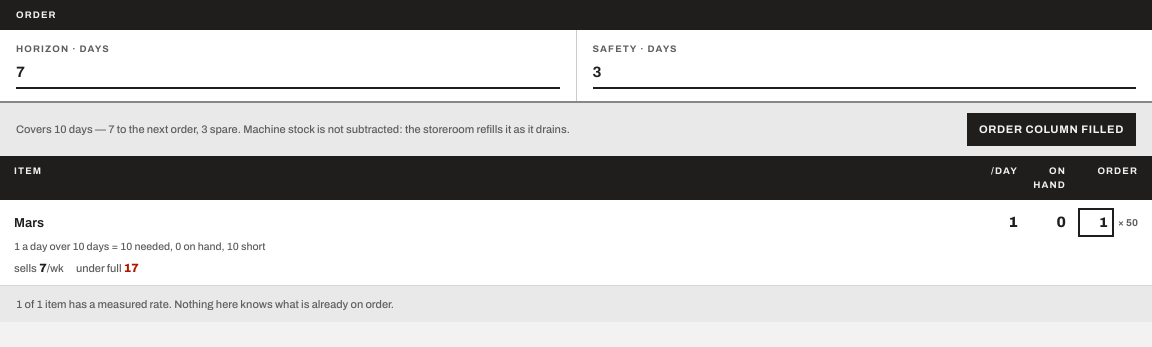
it: OrderSection — editing the order figure › replaces the suggestion with the operator figure, keeping the original in view
Replace the text in the number field named "order boxes for mars" with "4" at (1096, 222), box 1078,208 -> 1114,237
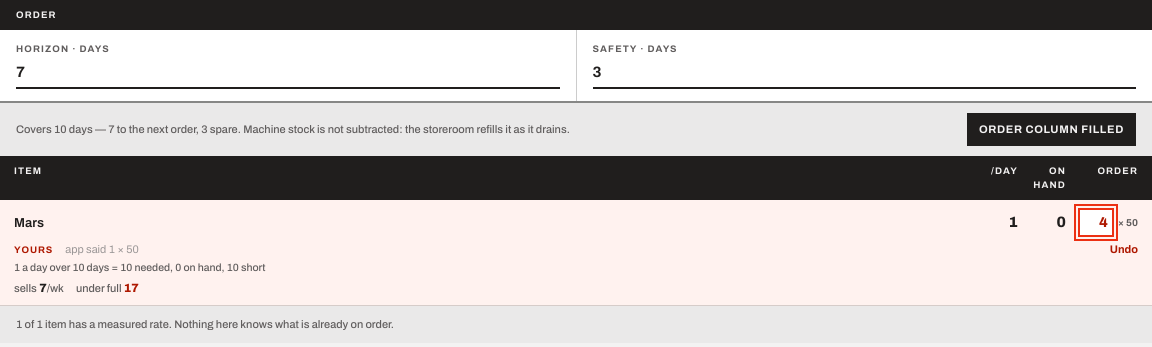
Expected: the text "app said 1 × 50" is shown, 65,241 -> 139,258
